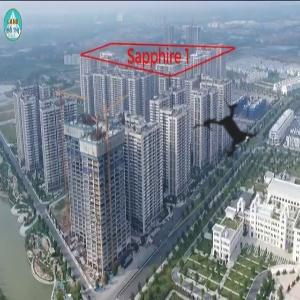drone: (172, 76, 287, 191)
